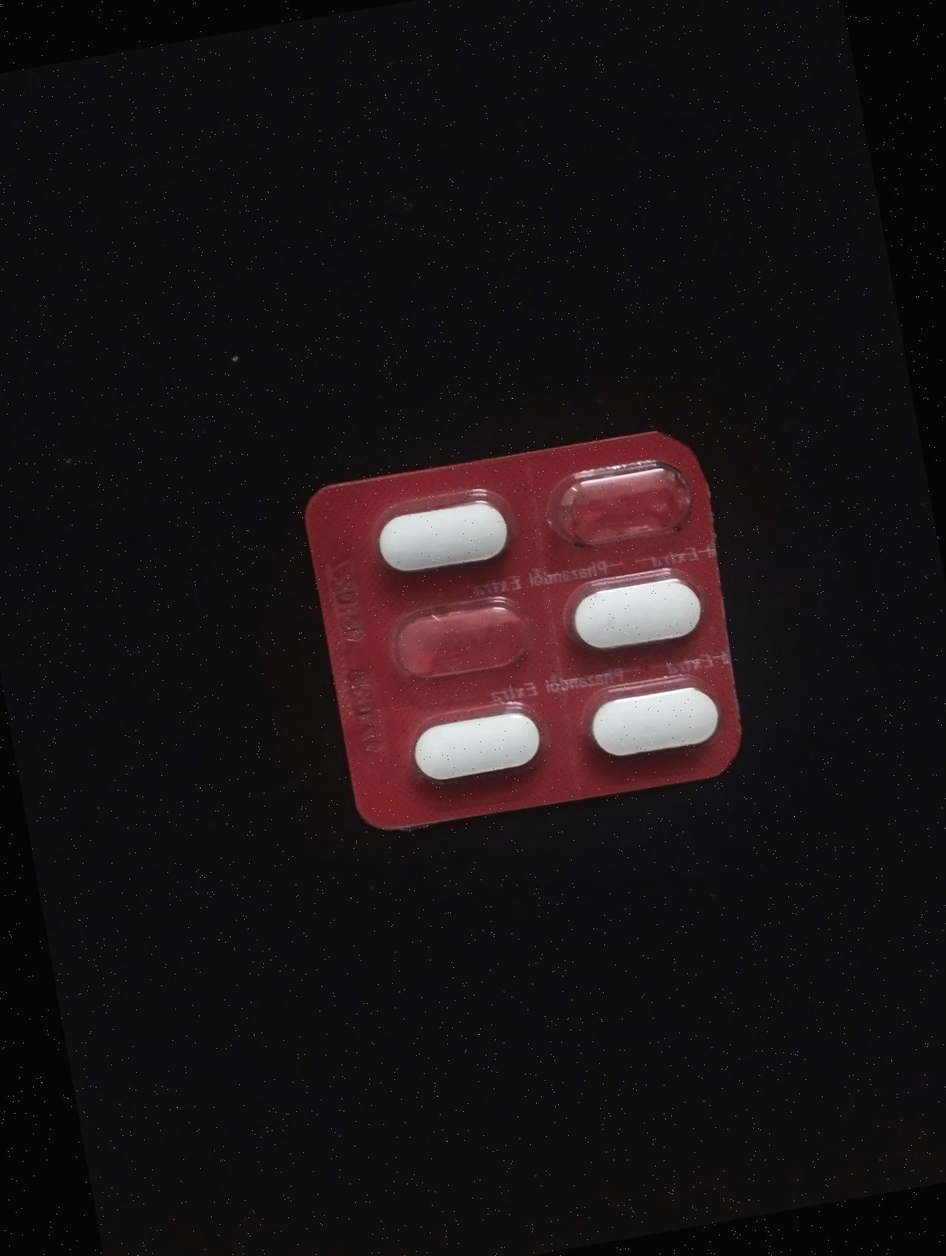Empty: (537, 449, 704, 568), (387, 591, 544, 689)
Full: (558, 563, 717, 668), (366, 484, 515, 596), (402, 702, 550, 797), (572, 683, 729, 770)
